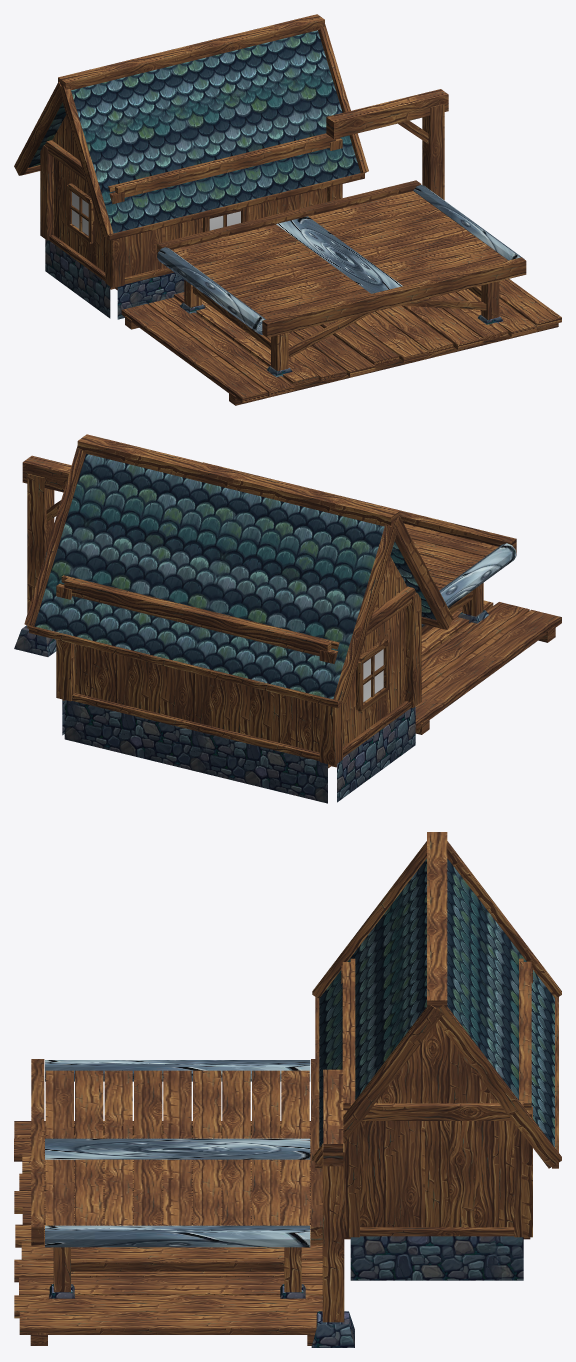
File: sawmill.glb
3 views of the same model, one above another, from view 1: azimuth 30°, elevation 25°; view 2: azimuth 150°, elevation 25°; view 3: azimuth 270°, elevation 25° (orthographic). The views are drawn at different scales.
Parts seen in each view (by area): view 1: sawmill; view 2: sawmill; view 3: sawmill.
Boxes of the visible parts, box(x1,y1,x2,y2) form: sawmill: box(14, 14, 561, 405); sawmill: box(14, 434, 561, 803); sawmill: box(14, 832, 561, 1347).
Size of the model in its own units: 3.7 by 2.23 by 3.8.
5 materials, 4 textured.
